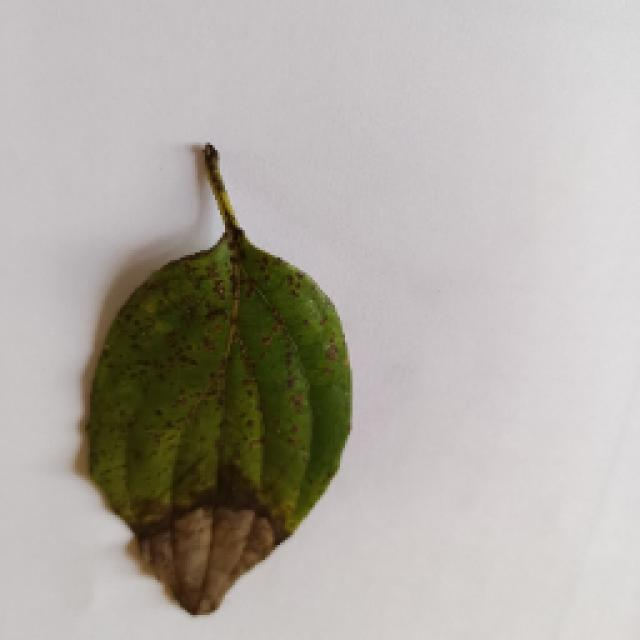footrot: (65, 150, 353, 620)
